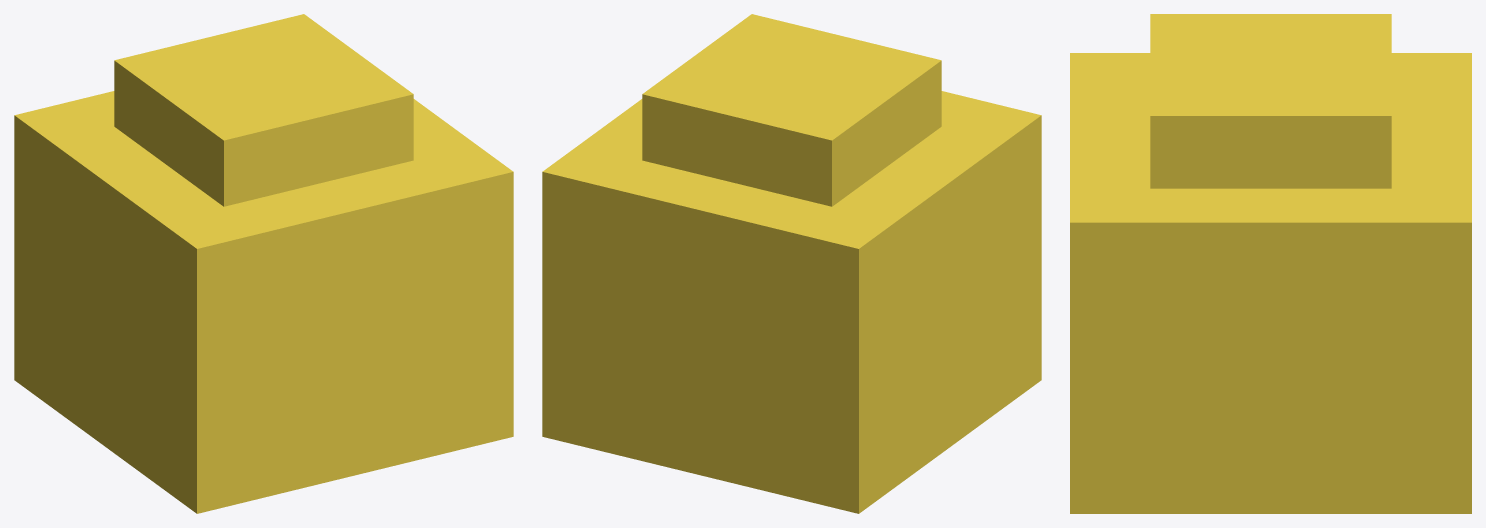
File: Item_DS_Food_Cheese_V0.glb
3 views of the same model, side by side, from view 1: azimuth 30°, elevation 25°; view 2: azimuth 150°, elevation 25°; view 3: azimuth 270°, elevation 25° (orthographic). The views are drawn at different scales.
Visible parts, largest first — view 1: Cube, Cube.001; view 2: Cube, Cube.001; view 3: Cube, Cube.001.
Part boxes in pixels (x1,y1,x2,y2): Cube: (14,91,513,513); Cube.001: (114,14,413,206); Cube: (542,91,1041,513); Cube.001: (642,14,941,206); Cube: (1070,53,1471,513); Cube.001: (1150,14,1391,188).
Bounding box in the file's own units: 0.18 × 0.18 × 0.18.
